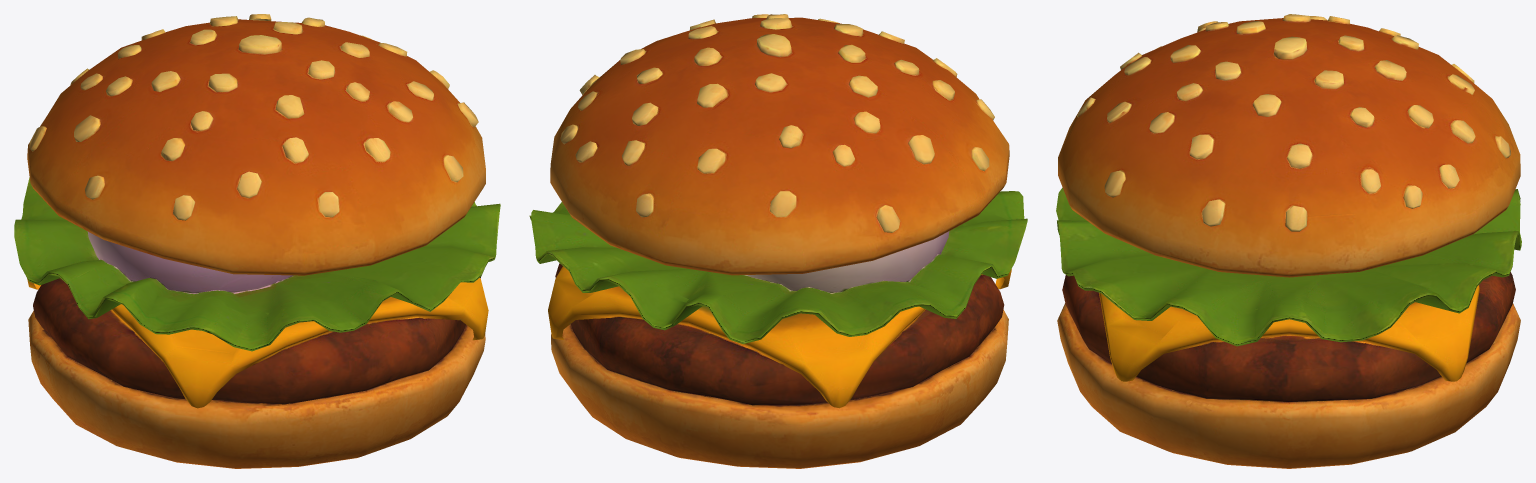
File: P56_whole_burger_Runtime_1k.glb
3 renders of one model, left to right at view 1: azimuth 30°, elevation 25°; view 2: azimuth 150°, elevation 25°; view 3: azimuth 270°, elevation 25°, orthographic.
Parts seen in each view (by area): view 1: tripo_node_c978d64d; view 2: tripo_node_c978d64d; view 3: tripo_node_c978d64d.
Boxes of the visible parts, bbox=[...] form: tripo_node_c978d64d: bbox=[14, 14, 500, 468]; tripo_node_c978d64d: bbox=[529, 14, 1027, 468]; tripo_node_c978d64d: bbox=[1056, 14, 1521, 468].
Size of the model in its own units: 0.136 by 0.1101 by 0.1349.
1 material, 1 textured.
